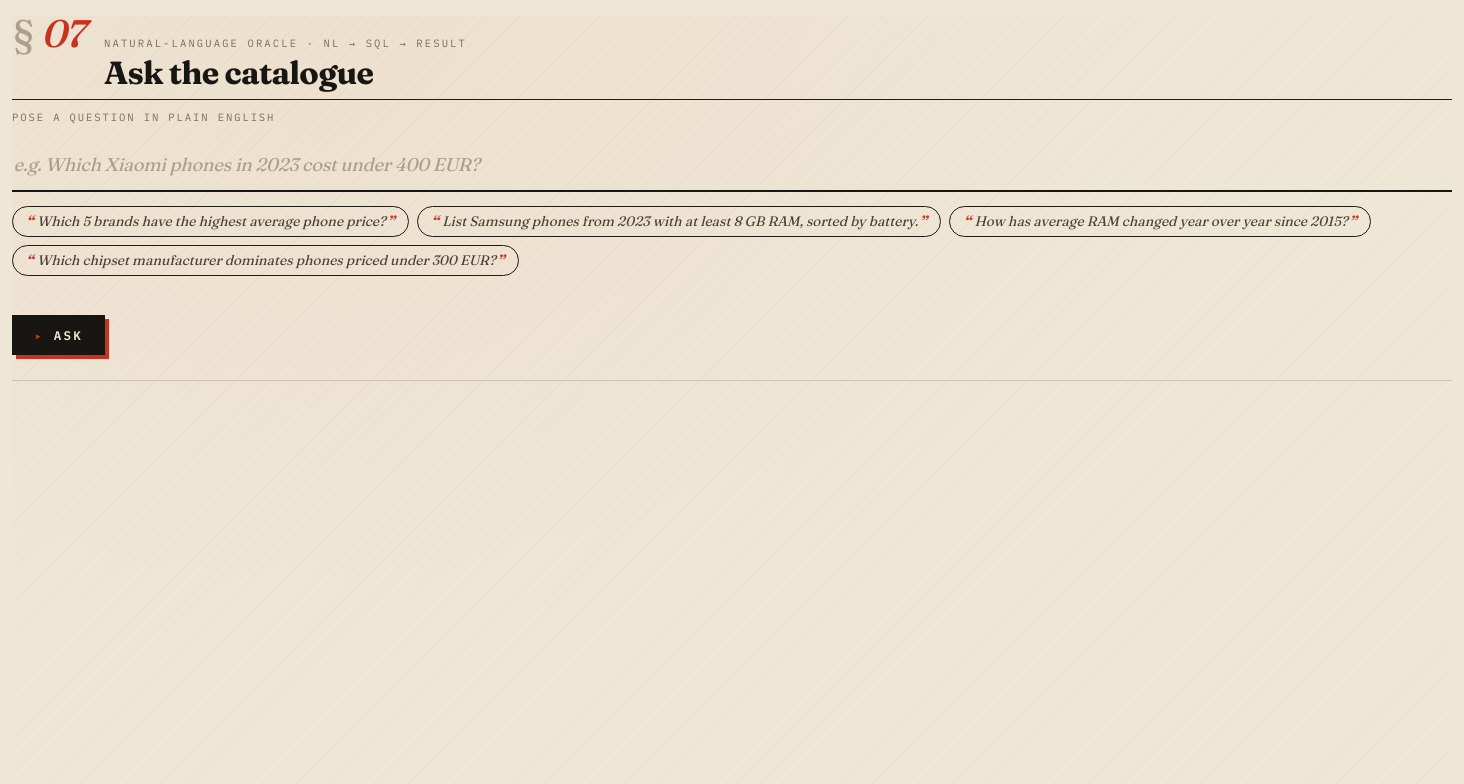
AskView › submits a question and renders the SQL + result table
Type "list brands" into the field with placeholder "e.g. Which Xiaomi phones in 2023 cost under 400 EUR?".
click(732, 166); type("list brands")  # box [12,140,1452,192]
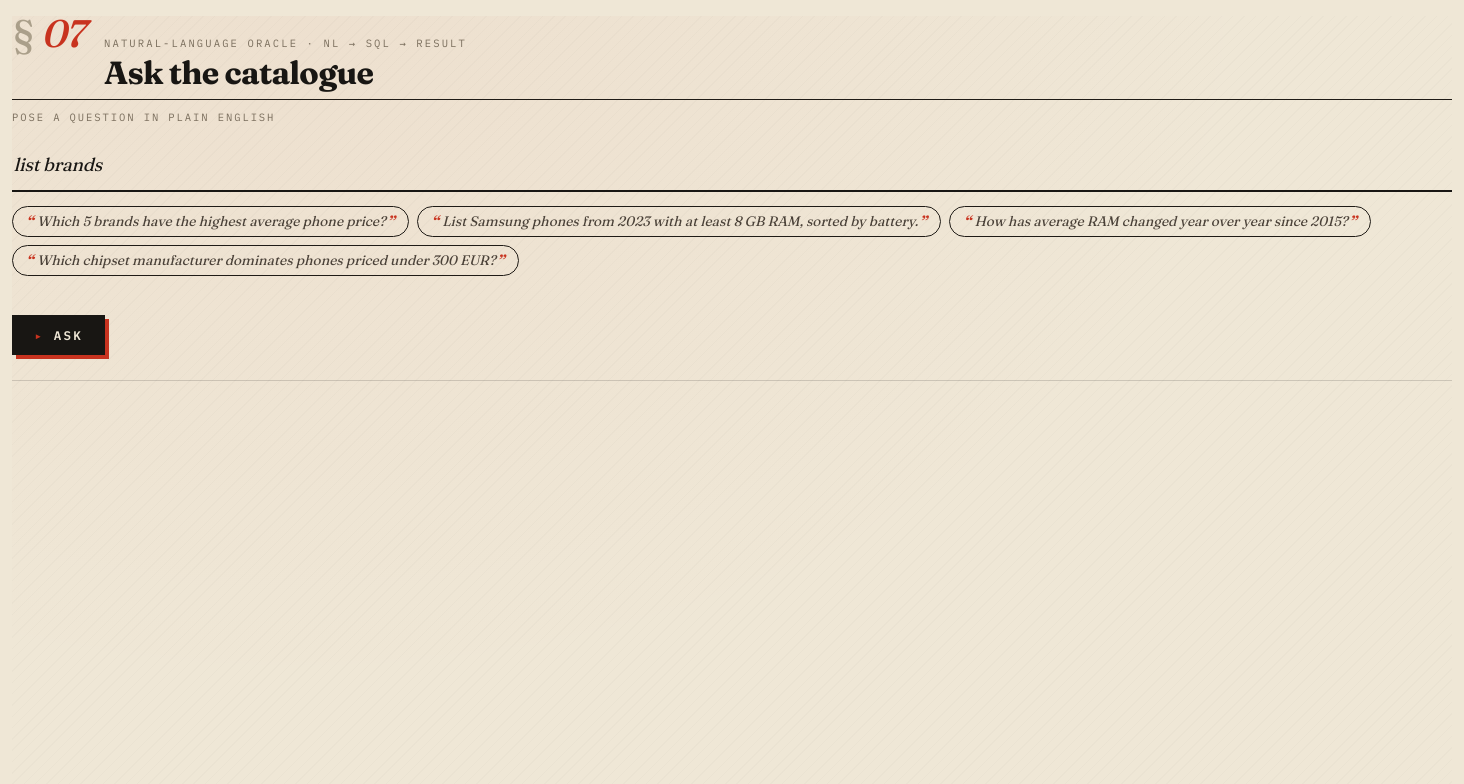
Click the button "Ask".
click(59, 335)  # box [12,315,105,355]
(page scrolled)
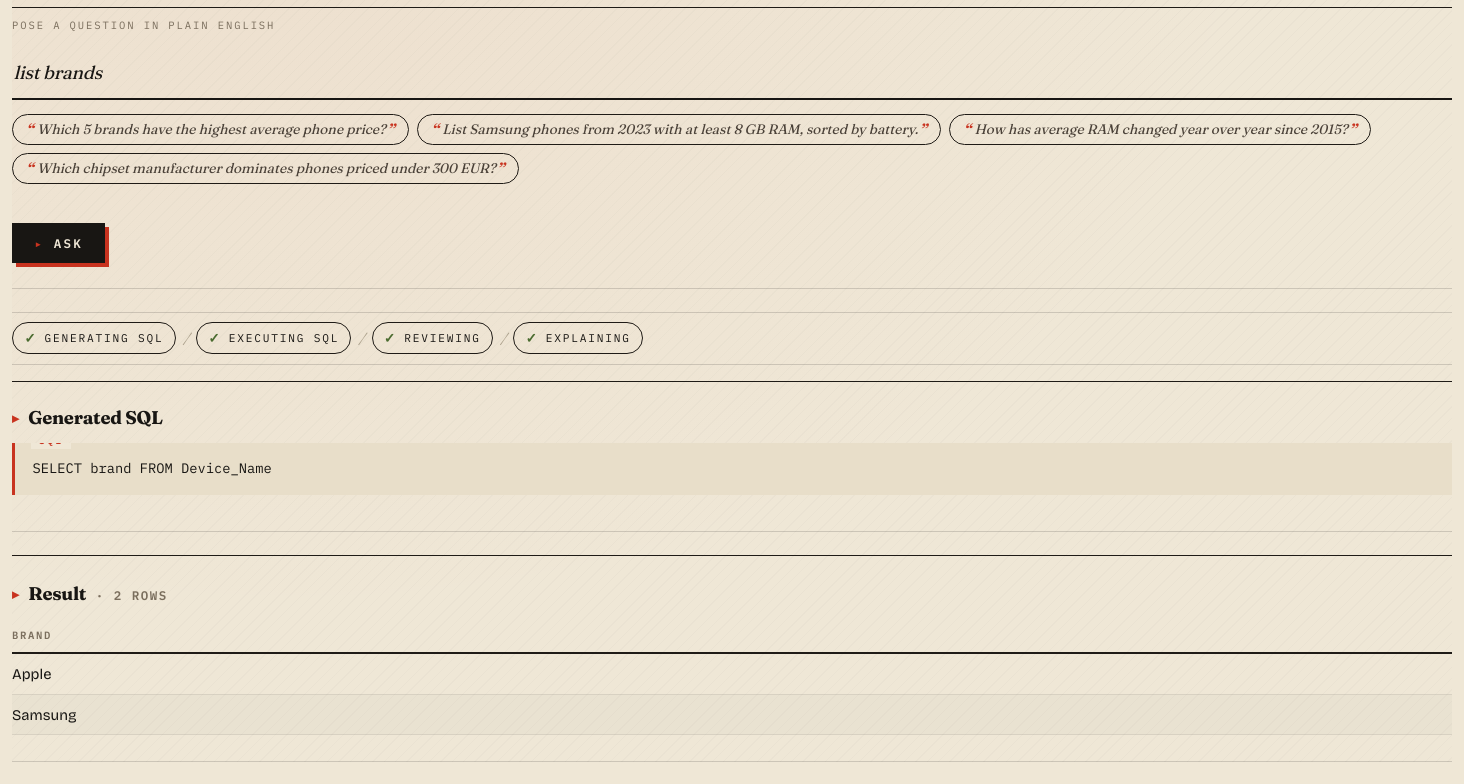
Now the heading "Generated SQL" is shown, box [28,406,163,429]
Now the text "SELECT brand FROM Device_Name" is shown, box [12,443,1452,495]
Now the text "Apple" is shown, box [12,653,1452,694]
